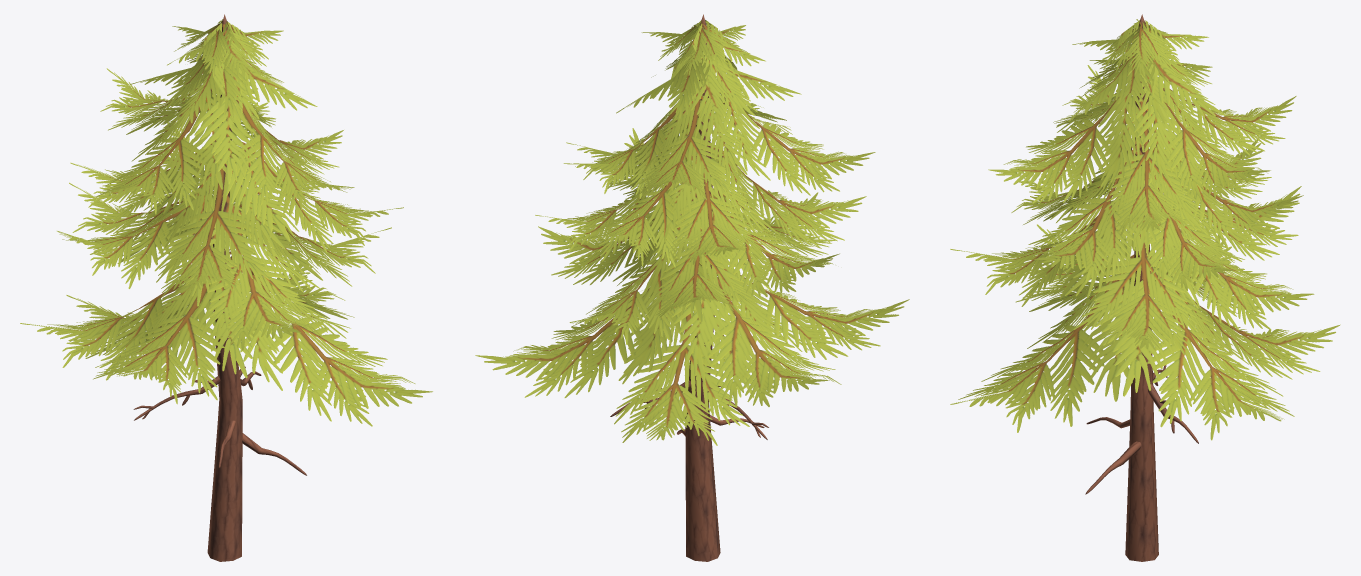
The model's file is pine_tree.gltf.
3 renders of one model, left to right at view 1: azimuth 30°, elevation 25°; view 2: azimuth 150°, elevation 25°; view 3: azimuth 270°, elevation 25°, orthographic.
Parts seen in each view (by area): view 1: PineTree; view 2: PineTree; view 3: PineTree.
Boxes of the visible parts, x1,y1,x2,y2 form: PineTree: (20, 14, 432, 561); PineTree: (475, 14, 909, 561); PineTree: (950, 14, 1340, 561).
Bounding box in the file's own units: 2.73 × 4.13 × 2.78.
Materials: 2 (2 with a texture image).
